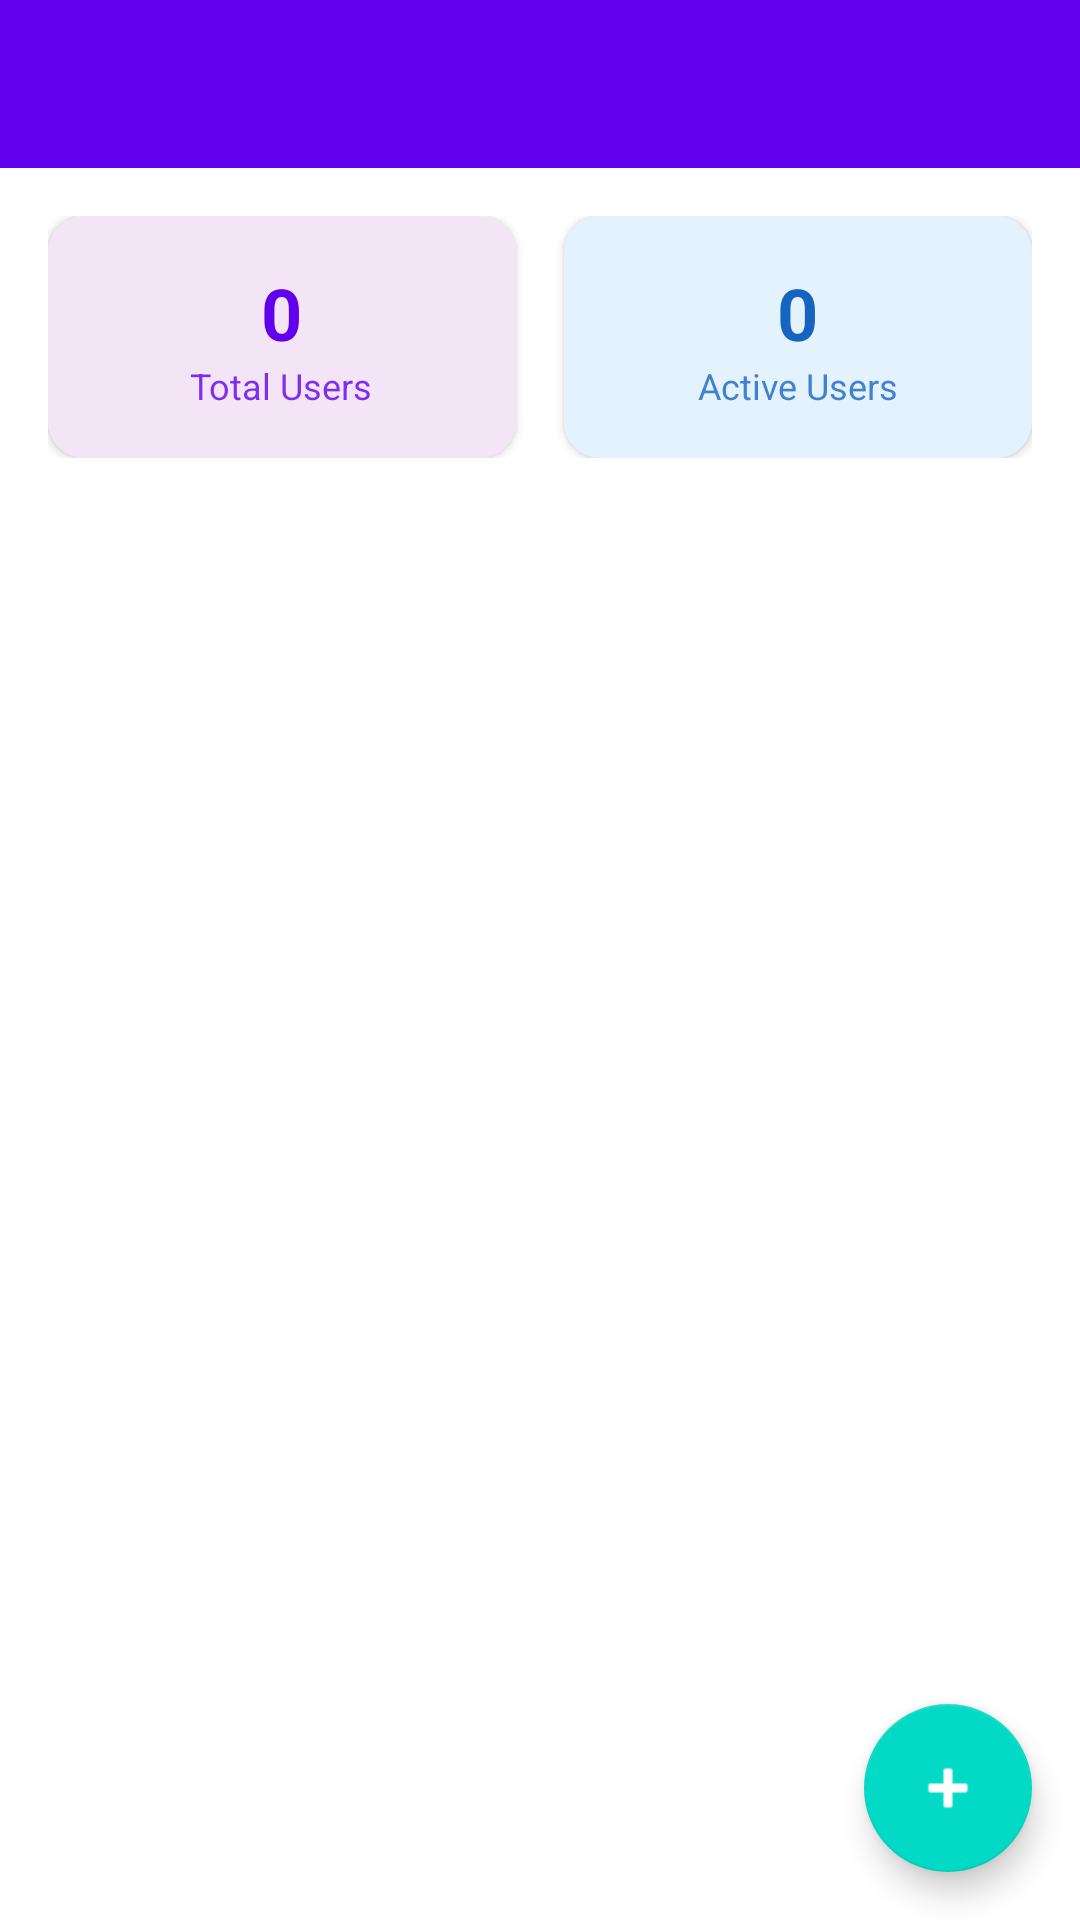

Screen size 1080w x 1920h. Icon name, then its box in pixels as (x1, y1, x2, y2):
Add User: (864, 1704, 1032, 1872)
